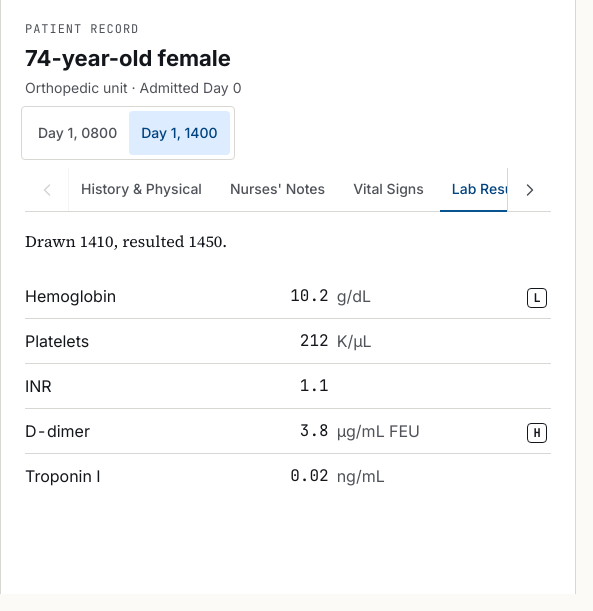
Scenario: EhrPanel › time points › falls back to the first section when the open one was not charted then
Click the radio button labelled "Day 1, 0800". click: coordinates (78, 133)
box: [26,111,129,155]
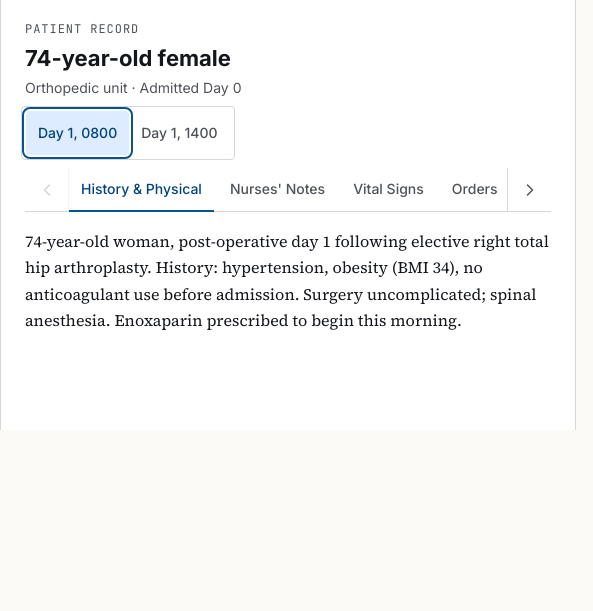
Now the tab "Lab Results" is gone
